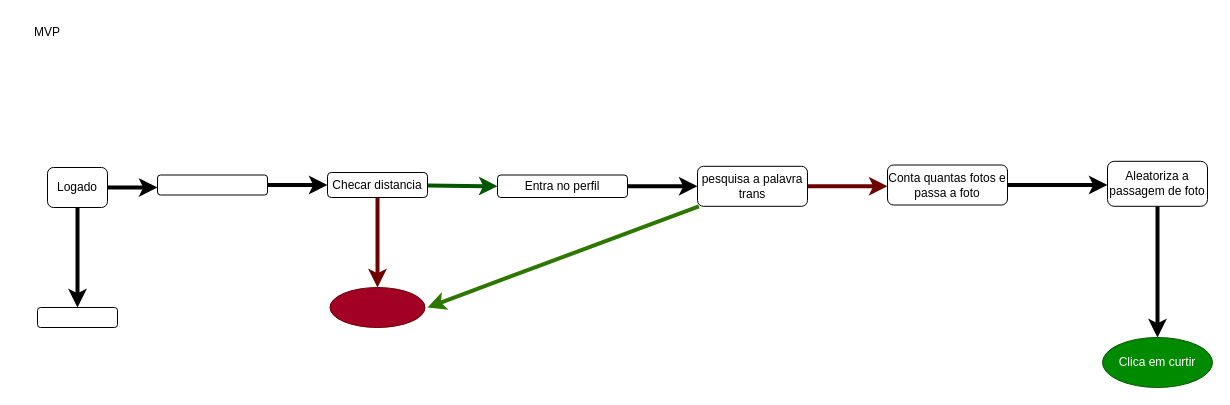
Image size: 1230x405. Some labels were removed from this diagram. Here are the shapes that lost their labels. From the top down, the centre of each, then its label:
[212,184]: Pagina principal
[77,317]: Erro
[377,307]: Clicar no X
